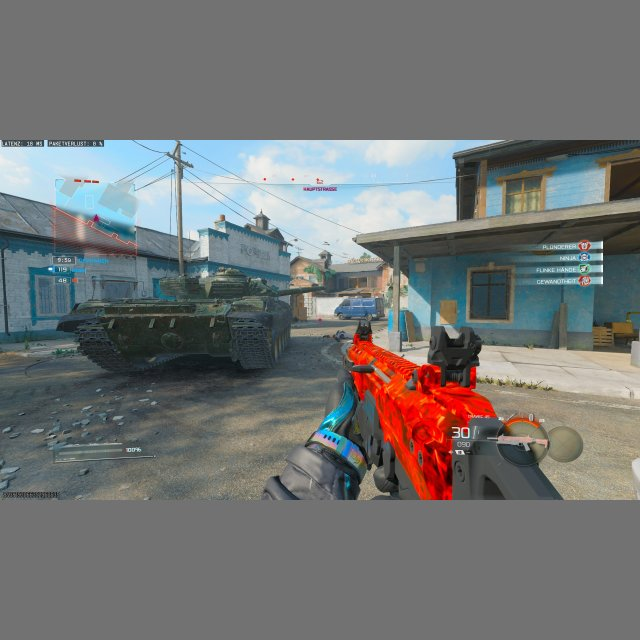head: (355, 324, 372, 341)
